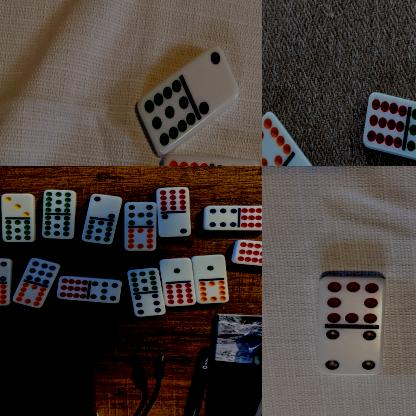pip-1: (158, 258, 192, 283), (192, 255, 225, 280)
pip-10: (262, 111, 291, 166), (12, 282, 47, 309), (124, 228, 157, 252), (196, 280, 228, 303), (0, 283, 9, 306)
pip-11: (138, 78, 195, 154), (42, 190, 76, 216), (0, 219, 35, 244), (81, 220, 116, 245), (126, 268, 159, 294), (41, 214, 74, 239), (405, 106, 416, 165)
pip-12: (362, 92, 407, 154), (155, 188, 190, 212), (163, 282, 194, 307), (56, 276, 88, 300), (232, 239, 262, 264), (238, 206, 262, 231)
pip-2: (187, 47, 237, 117), (91, 194, 122, 222), (156, 213, 190, 237)
pip-3: (1, 194, 34, 219)
pip-4: (316, 327, 381, 375), (0, 258, 11, 283)
pip-6: (204, 206, 238, 230), (132, 294, 164, 318)
pip-7: (88, 278, 121, 305), (123, 202, 156, 227)
pip-8: (320, 277, 386, 328)
pip-9: (24, 258, 60, 285)
